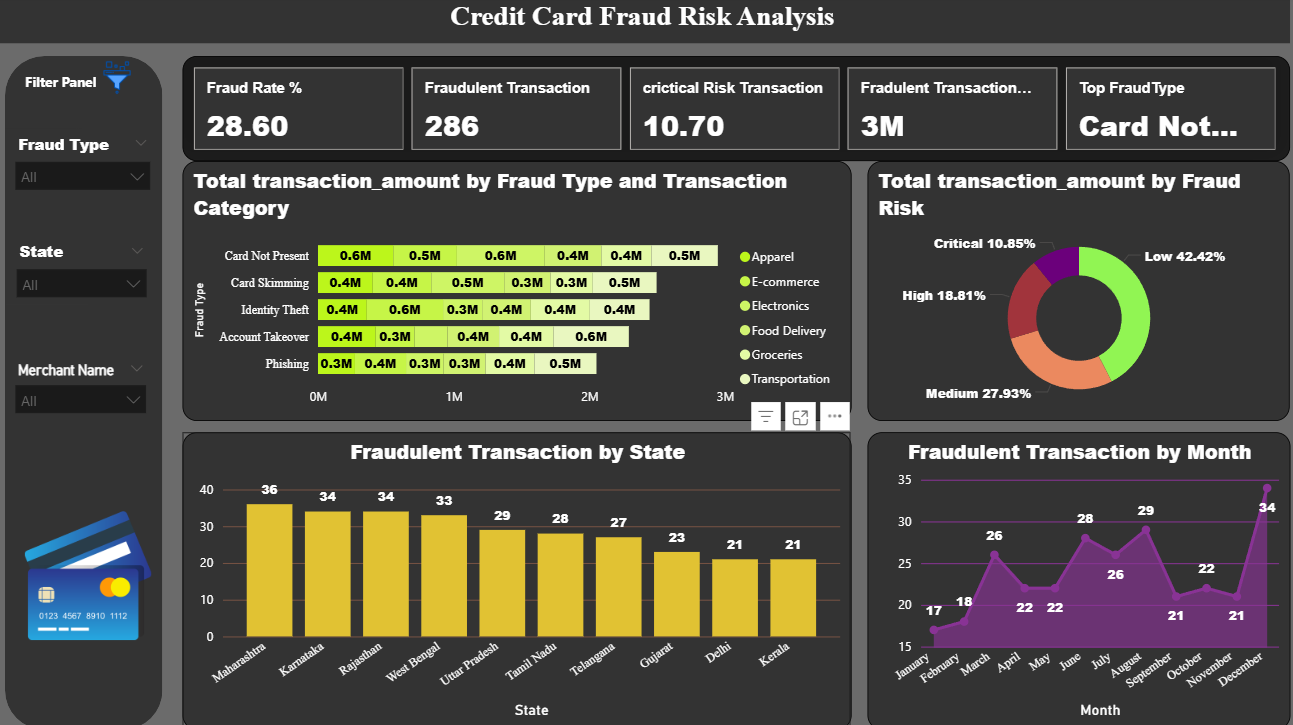

Layout of this report page (visuals, bound fields, positions):
{"tool":"powerbi","page":{"name":"Page 1","canvas":[1280,720],"ordinal":0},"visuals":[{"type":"textbox","box":[0,0,1271.2,46.6],"z":0},{"type":"shape","box":[9.8,58.9,154.6,661.4],"z":1},{"type":"textbox","box":[24.5,69.9,94.5,40.5],"z":2},{"type":"image","box":[81,58.9,77.3,42.9],"z":3},{"type":"barChart","fields":{"Y":["Credit Card Fraud Risk Analysis.total transaction_amount"],"Category":["Credit Card Fraud Risk Analysis.Fraud Type"],"Series":["Credit Card Fraud Risk Analysis.Transaction Category"]},"box":[184.1,162,656.4,255.2],"z":4},{"type":"donutChart","fields":{"Y":["Credit Card Fraud Risk Analysis.total transaction_amount"],"Category":["Credit Card Fraud Risk Analysis.Fraud Risk"]},"box":[856.4,162,414.7,255.2],"z":5},{"type":"columnChart","fields":{"Category":["Credit Card Fraud Risk Analysis.State"],"Y":["Credit Card Fraud Risk Analysis.Fraudulent Transaction"]},"box":[184.1,428.2,656.4,292],"z":6},{"type":"lineChart","fields":{"Category":["Credit Card Fraud Risk Analysis.Transaction Date.Variation.Date Hierarchy.Month","Credit Card Fraud Risk Analysis.Transaction Date.Variation.Date Hierarchy.Day"],"Y":["Credit Card Fraud Risk Analysis.Fraudulent Transaction"]},"box":[856,428,415,292],"z":7},{"type":"slicer","fields":{"Values":["Credit Card Fraud Risk Analysis.Fraud Type"]},"box":[9.8,130.1,152.1,79.8],"z":8},{"type":"slicer","fields":{"Values":["Credit Card Fraud Risk Analysis.State"]},"box":[11,235.6,147.2,67.5],"z":9},{"type":"slicer","fields":{"Values":["Credit Card Fraud Risk Analysis.Merchant Name"]},"box":[9.8,353.4,148.5,72.4],"z":10},{"type":"image","box":[24.5,446.6,133.7,244.2],"z":11},{"type":"cardVisual","fields":{"Data":["Credit Card Fraud Risk Analysis.Fraud Rate %","Credit Card Fraud Risk Analysis.Fraudulent Transaction","Credit Card Fraud Risk Analysis.crictical Risk Transaction","Credit Card Fraud Risk Analysis.Fradulent Transaction Amount","Credit Card Fraud Risk Analysis.Top FraudType"]},"box":[184.1,58.9,1087.1,103.1],"z":12}]}

Visuals, with their boxes in screenshot pixels (x1, y1, x2, y2), scaled from the page's 1280x720 canvas onto the 1293x725 screenshot:
textbox: [left=0, top=0, right=1284, bottom=47]
shape: [left=10, top=59, right=166, bottom=724]
textbox: [left=25, top=70, right=120, bottom=111]
image: [left=82, top=59, right=160, bottom=103]
barChart - Credit Card Fraud Risk Analysis.total transaction_amount x Credit Card Fraud Risk Analysis.Fraud Type: [left=186, top=163, right=849, bottom=420]
donutChart - Credit Card Fraud Risk Analysis.total transaction_amount x Credit Card Fraud Risk Analysis.Fraud Risk: [left=865, top=163, right=1284, bottom=420]
columnChart - Credit Card Fraud Risk Analysis.State x Credit Card Fraud Risk Analysis.Fraudulent Transaction: [left=186, top=431, right=849, bottom=724]
lineChart - Credit Card Fraud Risk Analysis.Transaction Date.Variation.Date Hierarchy.Month x Credit Card Fraud Risk Analysis.Transaction Date.Variation.Date Hierarchy.Day: [left=865, top=431, right=1284, bottom=724]
slicer - Credit Card Fraud Risk Analysis.Fraud Type: [left=10, top=131, right=164, bottom=211]
slicer - Credit Card Fraud Risk Analysis.State: [left=11, top=237, right=160, bottom=305]
slicer - Credit Card Fraud Risk Analysis.Merchant Name: [left=10, top=356, right=160, bottom=429]
image: [left=25, top=450, right=160, bottom=696]
cardVisual - Credit Card Fraud Risk Analysis.Fraud Rate % x Credit Card Fraud Risk Analysis.Fraudulent Transaction: [left=186, top=59, right=1284, bottom=163]
